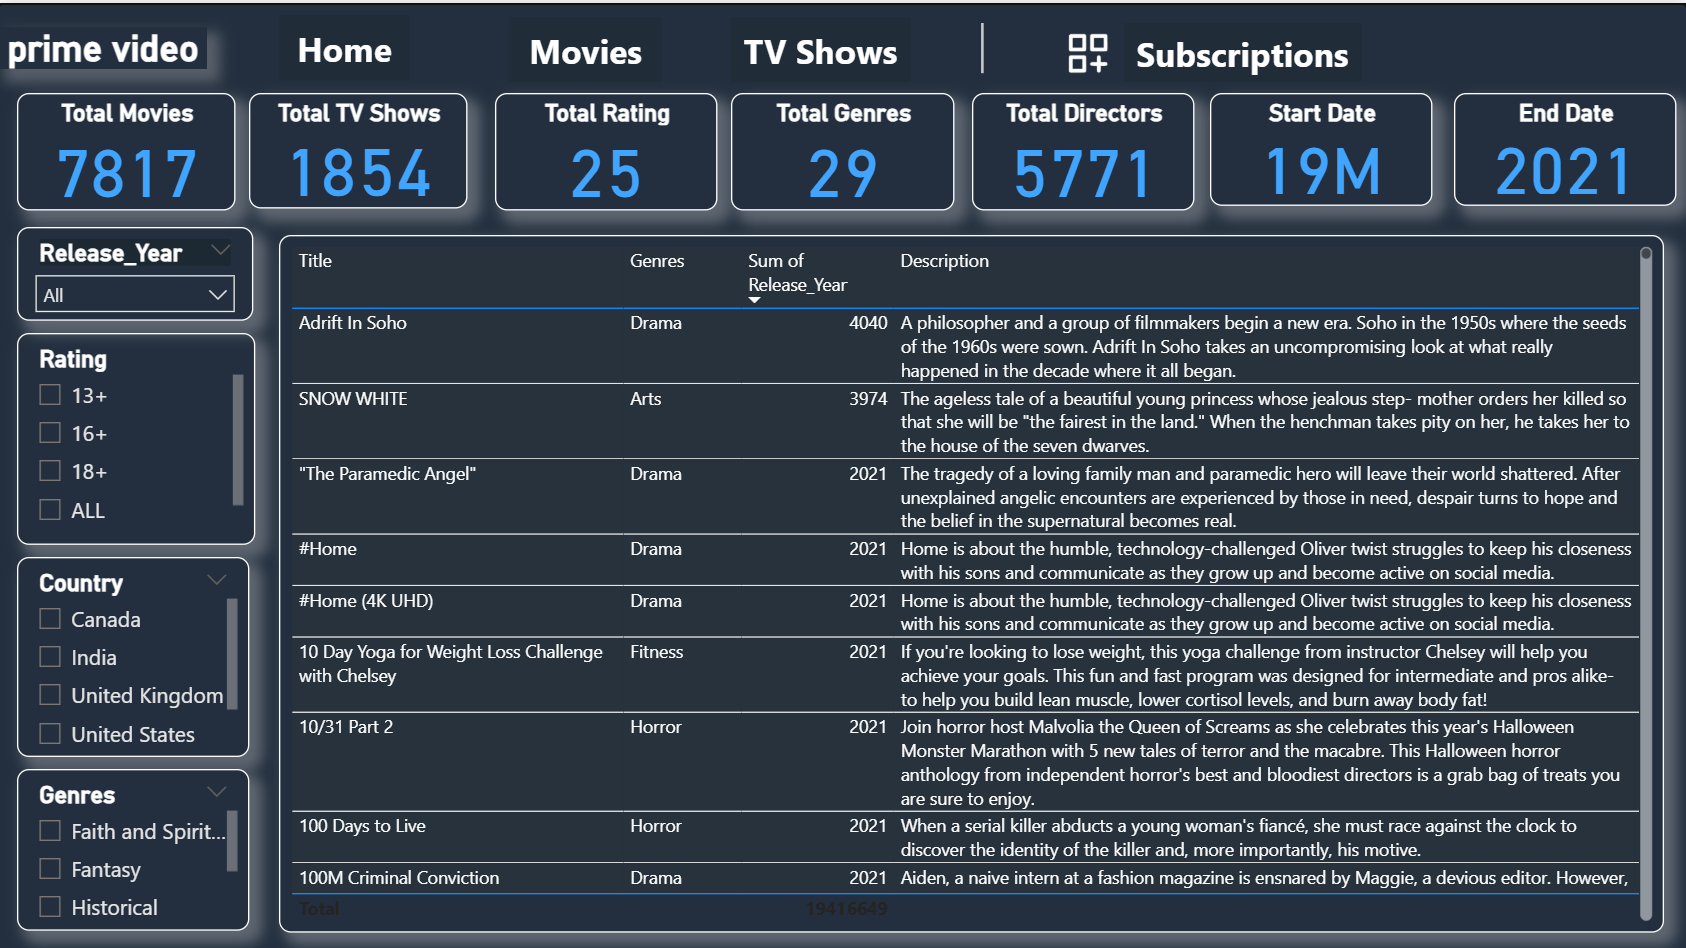

The page's visual inventory and layout, read from the dashboard file:
{"tool":"powerbi","page":{"name":"Movies","canvas":[1280,720],"ordinal":1},"visuals":[{"type":"card","title":"Total Movies","fields":{"Values":["amazon_prime_titles.Show_id"]},"box":[15.3,68.9,165.4,88.8],"z":0},{"type":"card","title":"Total Rating","fields":{"Values":["amazon_prime_titles.Rating"]},"box":[376.7,68.9,168.4,88.8],"z":1000},{"type":"card","title":"Total Genres","fields":{"Values":["amazon_prime_titles.Genres"]},"box":[555.8,68.9,168.4,88.8],"z":2000},{"type":"card","title":"Total Directors","fields":{"Values":["amazon_prime_titles.Director"]},"box":[738,68.9,168.4,88.8],"z":3000},{"type":"card","title":"Start Date","fields":{"Values":["amazon_prime_titles.Release_Year"]},"box":[918.7,68.9,168.4,85.7],"z":4000},{"type":"card","title":"End Date","fields":{"Values":["amazon_prime_titles.Release_Year"]},"box":[1102.4,68.9,168.4,85.7],"z":5000},{"type":"card","title":"Total Movies","fields":{"Values":["amazon_prime_titles.Show_id"]},"box":[191.4,68.9,165.4,87.3],"z":6000},{"type":"slicer","fields":{"Values":["amazon_prime_titles.Rating"]},"box":[6.4,249.9,187.4,160.6],"z":7000},{"type":"slicer","fields":{"Values":["amazon_prime_titles.Country"]},"box":[6.4,419.4,184.9,151.7],"z":8000},{"type":"slicer","fields":{"Values":["amazon_prime_titles.Genres"]},"box":[2.5,580.1,187.4,123.7],"z":9000},{"type":"textbox","title":"prime video","box":[1.5,18.4,157.7,32.2],"z":10000},{"type":"image","box":[803.2,8.9,49.7,58.6],"z":11000},{"type":"shape","box":[703.7,15.3,85.4,38.2],"z":12000},{"type":"tableEx","fields":{"Values":["amazon_prime_titles.Title","amazon_prime_titles.Genres","amazon_prime_titles.Release_Year","amazon_prime_titles.Description"]},"box":[214.3,175.7,1048.6,528.6],"z":13000},{"type":"actionButton","box":[214.2,8.9,99.4,49.7],"z":14000},{"type":"actionButton","box":[387.6,10.2,116,49.7],"z":15000},{"type":"actionButton","box":[555.9,10.2,135.1,49.7],"z":16000},{"type":"actionButton","box":[852.9,15.3,179.8,44.6],"z":17000},{"type":"slicer","fields":{"Values":["amazon_prime_titles.Release_Year"]},"box":[6.4,169.6,187.4,71.4],"z":18000}]}

Visuals, with their boxes in screenshot pixels (x1, y1, x2, y2), scaled from the page's 1280x720 canvas onto the 1686x948 screenshot:
"Total Movies" card: [left=20, top=91, right=238, bottom=208]
"Total Rating" card: [left=496, top=91, right=718, bottom=208]
"Total Genres" card: [left=732, top=91, right=954, bottom=208]
"Total Directors" card: [left=972, top=91, right=1194, bottom=208]
"Start Date" card: [left=1210, top=91, right=1432, bottom=204]
"End Date" card: [left=1452, top=91, right=1674, bottom=204]
"Total Movies" card: [left=252, top=91, right=470, bottom=206]
slicer - amazon_prime_titles.Rating: [left=8, top=329, right=255, bottom=540]
slicer - amazon_prime_titles.Country: [left=8, top=552, right=252, bottom=752]
slicer - amazon_prime_titles.Genres: [left=3, top=764, right=250, bottom=927]
"prime video" textbox: [left=2, top=24, right=210, bottom=67]
image: [left=1058, top=12, right=1123, bottom=89]
shape: [left=927, top=20, right=1039, bottom=70]
tableEx - amazon_prime_titles.Title x amazon_prime_titles.Genres: [left=282, top=231, right=1663, bottom=927]
actionButton: [left=282, top=12, right=413, bottom=77]
actionButton: [left=511, top=13, right=663, bottom=79]
actionButton: [left=732, top=13, right=910, bottom=79]
actionButton: [left=1123, top=20, right=1360, bottom=79]
slicer - amazon_prime_titles.Release_Year: [left=8, top=223, right=255, bottom=317]
